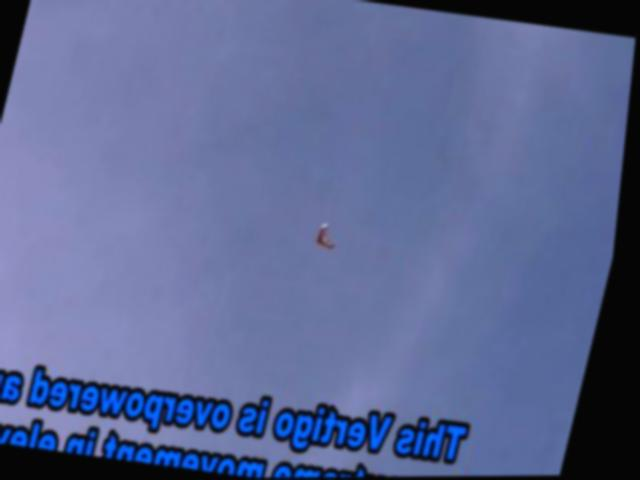flying wing: (316, 224, 346, 254)
